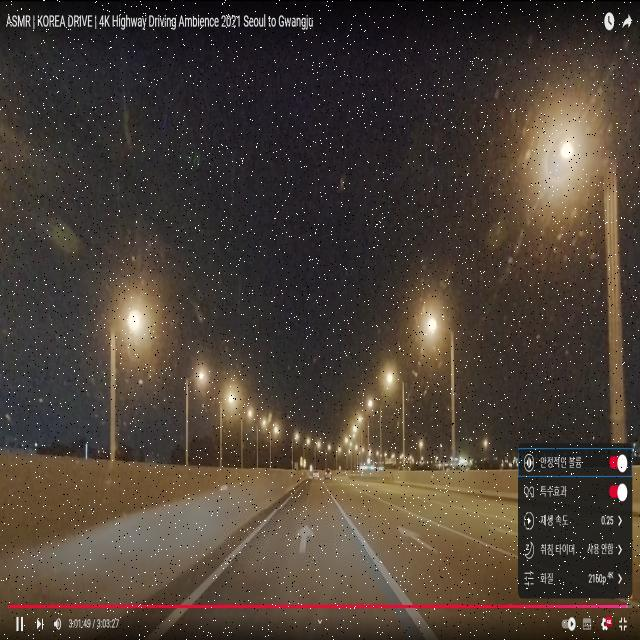forward: (224, 510, 384, 562)
